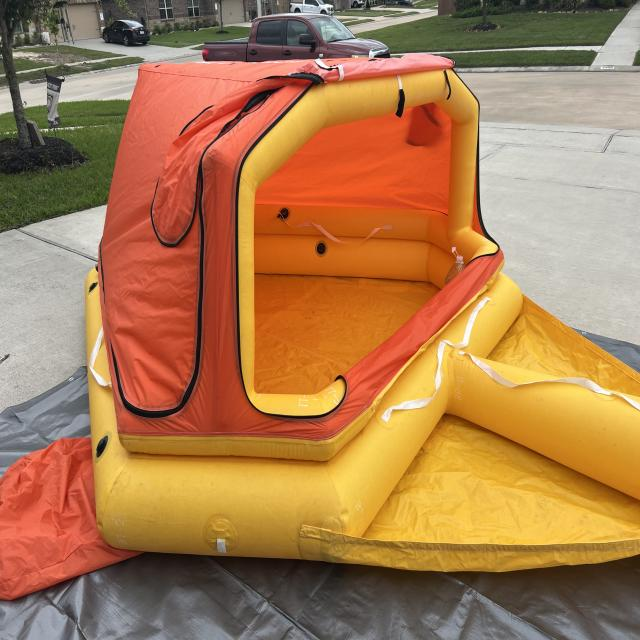Multi-person_life_raft: (0, 49, 640, 600)
